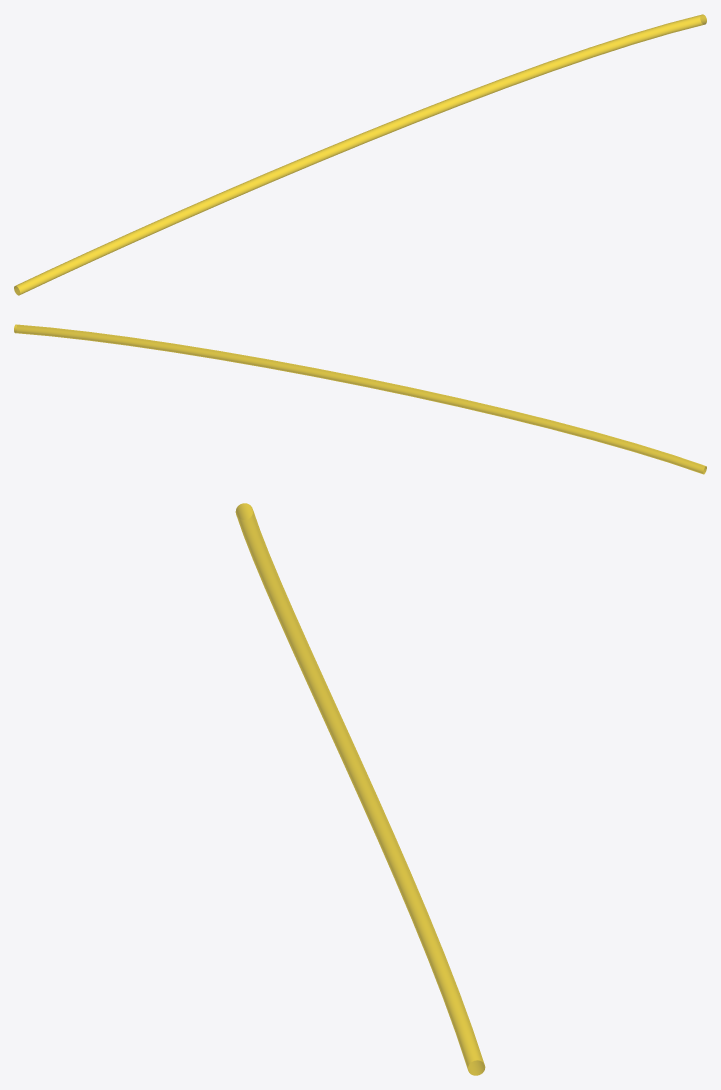
File: Event_100608114_track_111.fbx
3 views of the same model, one above another, from view 1: azimuth 30°, elevation 25°; view 2: azimuth 150°, elevation 25°; view 3: azimuth 270°, elevation 25° (orthographic). The views are drawn at different scales.
Visible parts, largest first — view 1: Model; view 2: Model; view 3: Model.
Boxes of the visible parts, x1,y1,x2,y2 form: Model: (14,14,706,295); Model: (14,324,706,474); Model: (235,503,485,1075).
Size of the model in its own units: 3.32 by 0.2176 by 0.5665.
